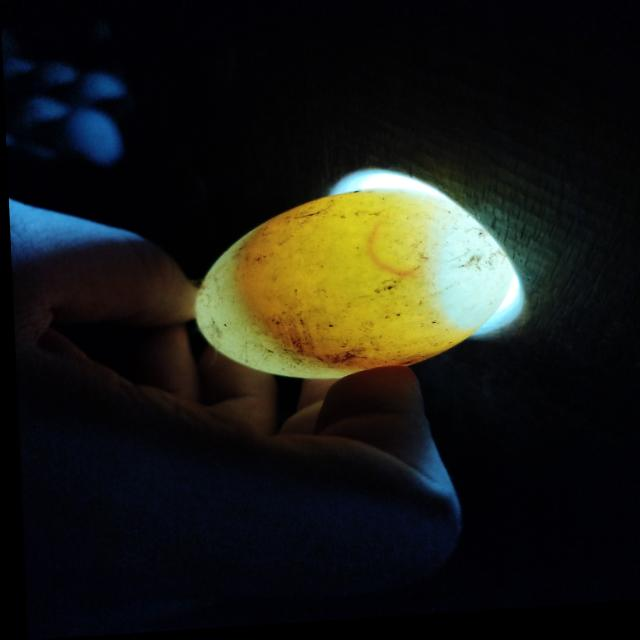Camara de Ar: (421, 202, 513, 343)
